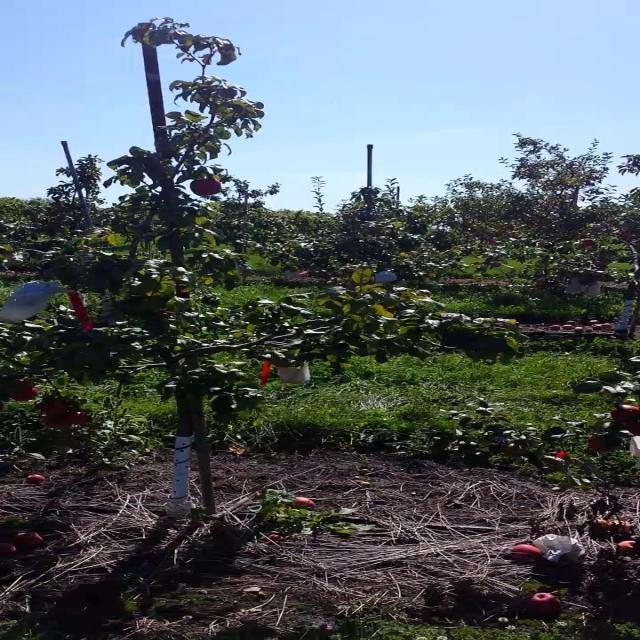apple: (189, 179, 222, 196), (587, 435, 618, 452), (611, 405, 640, 422), (40, 399, 69, 416), (11, 386, 38, 401), (11, 385, 38, 400), (62, 410, 87, 424), (42, 416, 67, 429), (0, 379, 27, 391), (622, 419, 640, 436), (190, 186, 219, 196), (556, 450, 569, 458)
